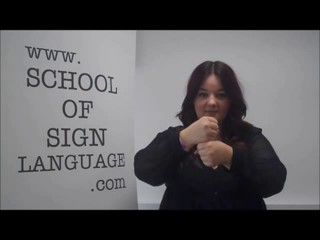G: (189, 114, 227, 169)
